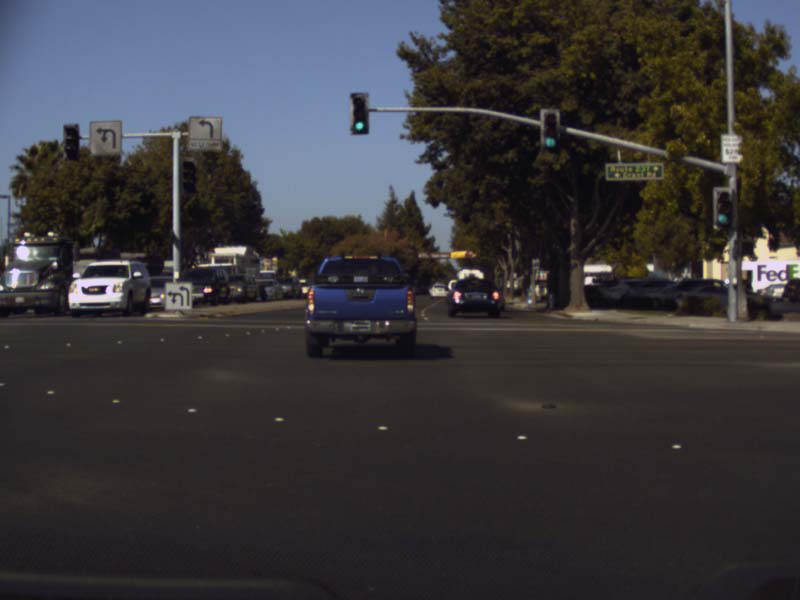Green: (350, 92, 368, 133), (543, 114, 557, 154), (716, 192, 730, 227)
